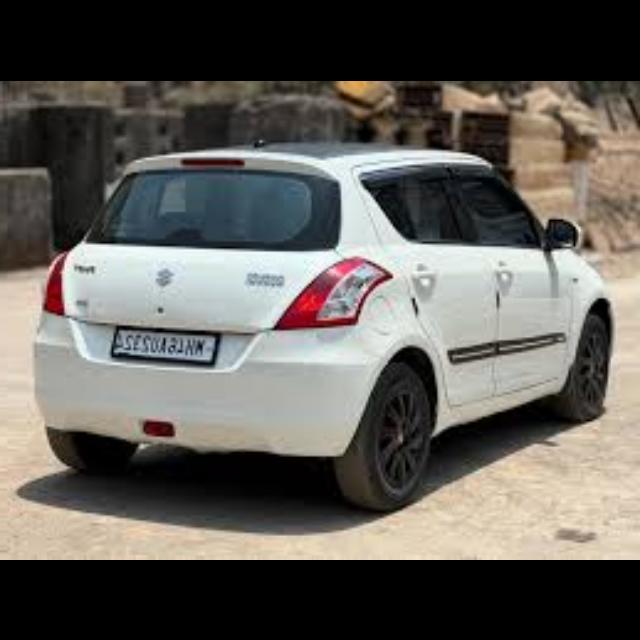vehicles: (40, 139, 612, 507)
